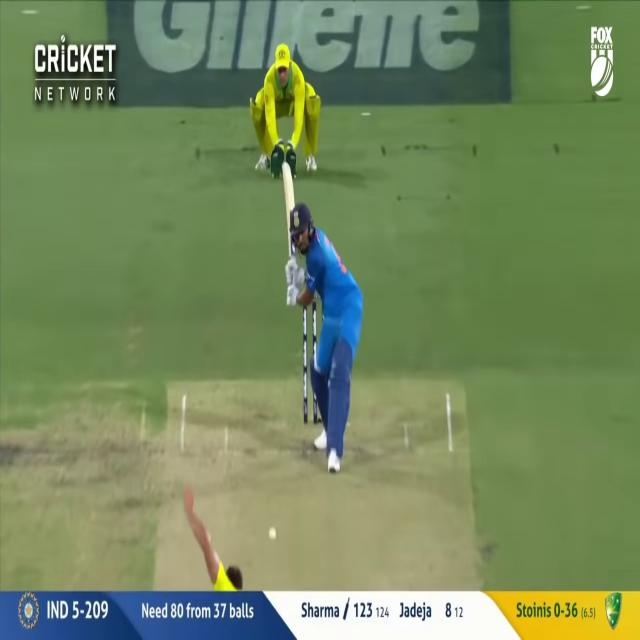ball: (268, 527, 277, 540)
stump: (303, 296, 320, 425)
